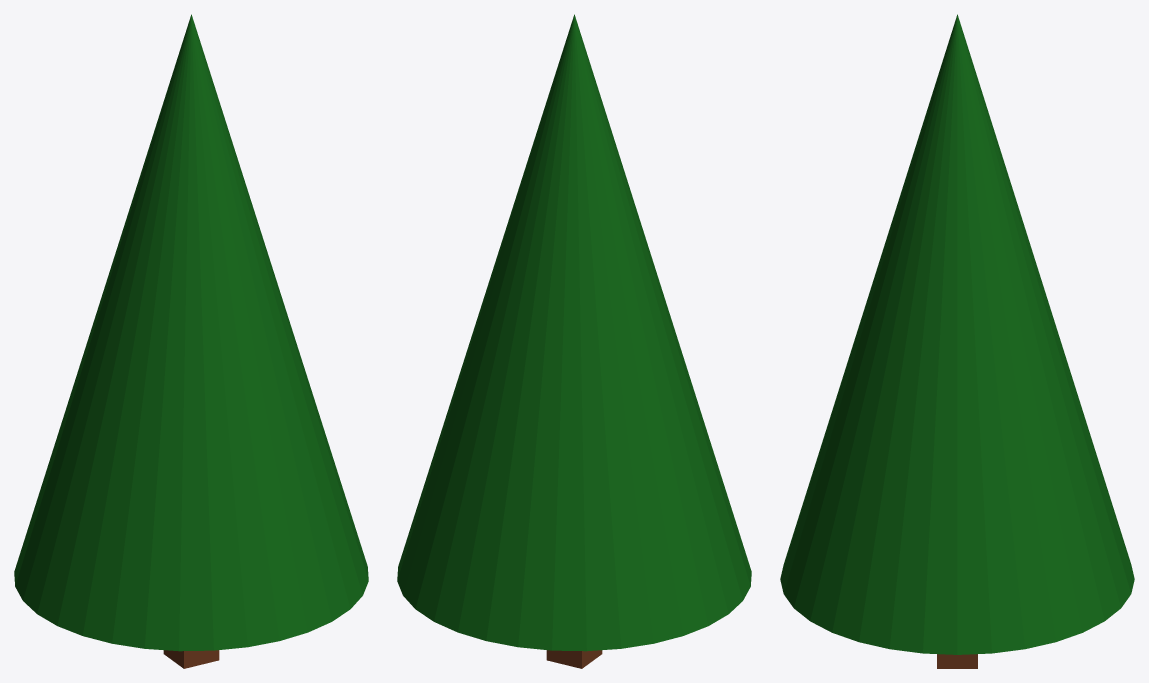
The model's file is tree.glb.
3 views of the same model, side by side, from view 1: azimuth 30°, elevation 25°; view 2: azimuth 150°, elevation 25°; view 3: azimuth 270°, elevation 25° (orthographic).
Parts seen in each view (by area): view 1: Cone, Cube; view 2: Cone, Cube; view 3: Cone, Cube.
Boxes of the visible parts, bbox=[...] form: Cone: bbox=[14, 14, 368, 651]; Cube: bbox=[163, 650, 219, 668]; Cone: bbox=[397, 14, 751, 651]; Cube: bbox=[546, 650, 602, 668]; Cone: bbox=[780, 14, 1134, 654]; Cube: bbox=[937, 654, 977, 668].
Size of the model in its own units: 17.52 by 34.9 by 17.35.
